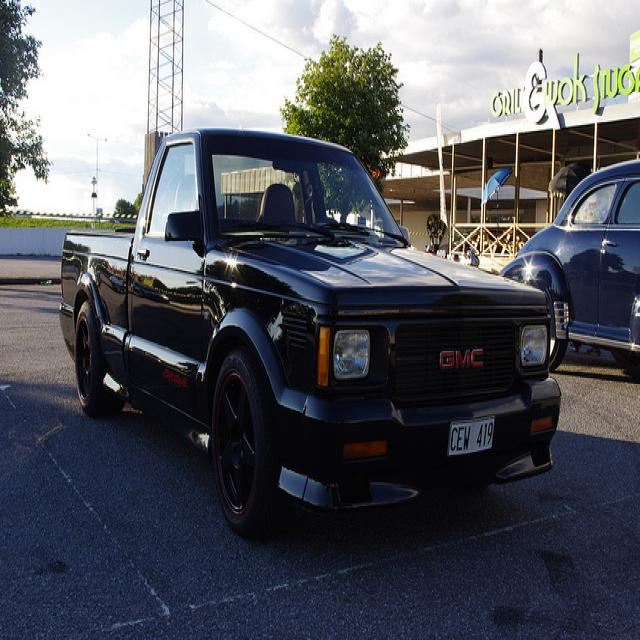Vehicle: (56, 128, 564, 541), (500, 162, 640, 354)
